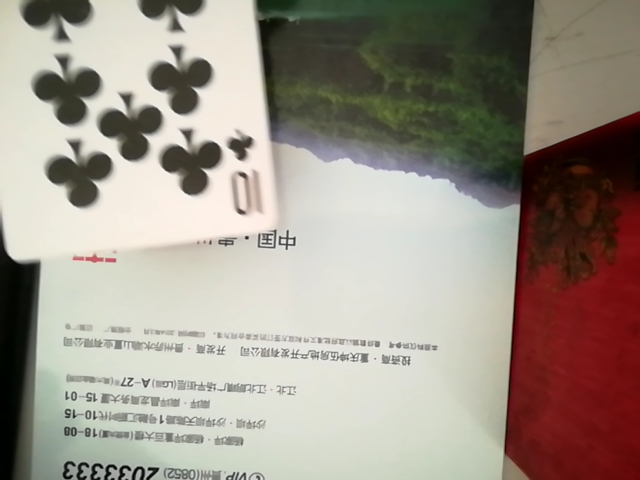mh 10: (0, 0, 277, 269)
